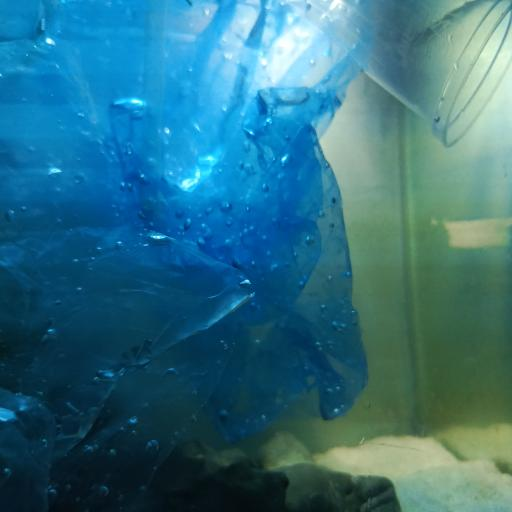plastic_bag: (0, 0, 370, 512)
plastic_cup: (280, 0, 512, 149)
